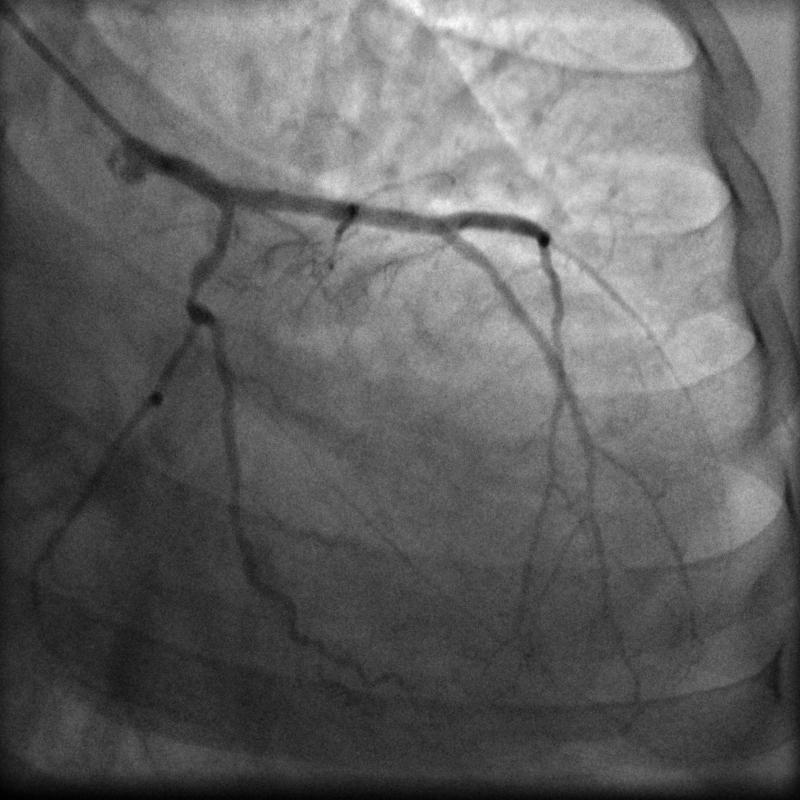Stenosis: (176, 264, 212, 310)
